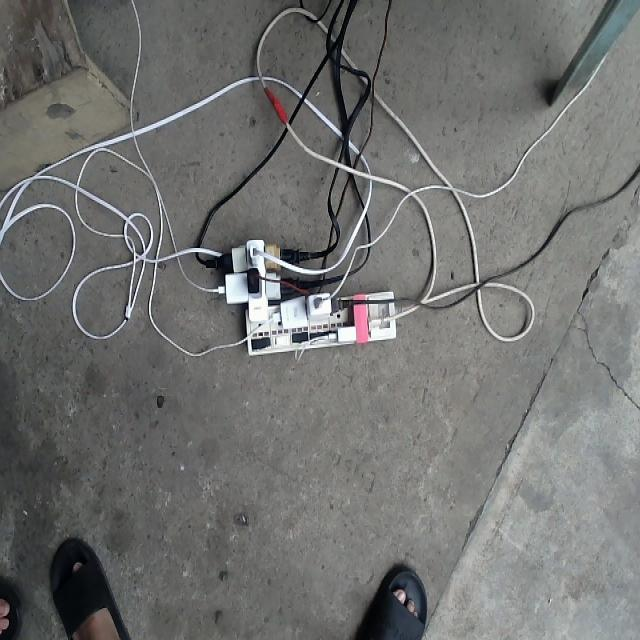-: (211, 237, 396, 359)
